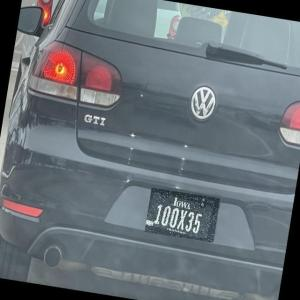Plate: (145, 185, 220, 240)
